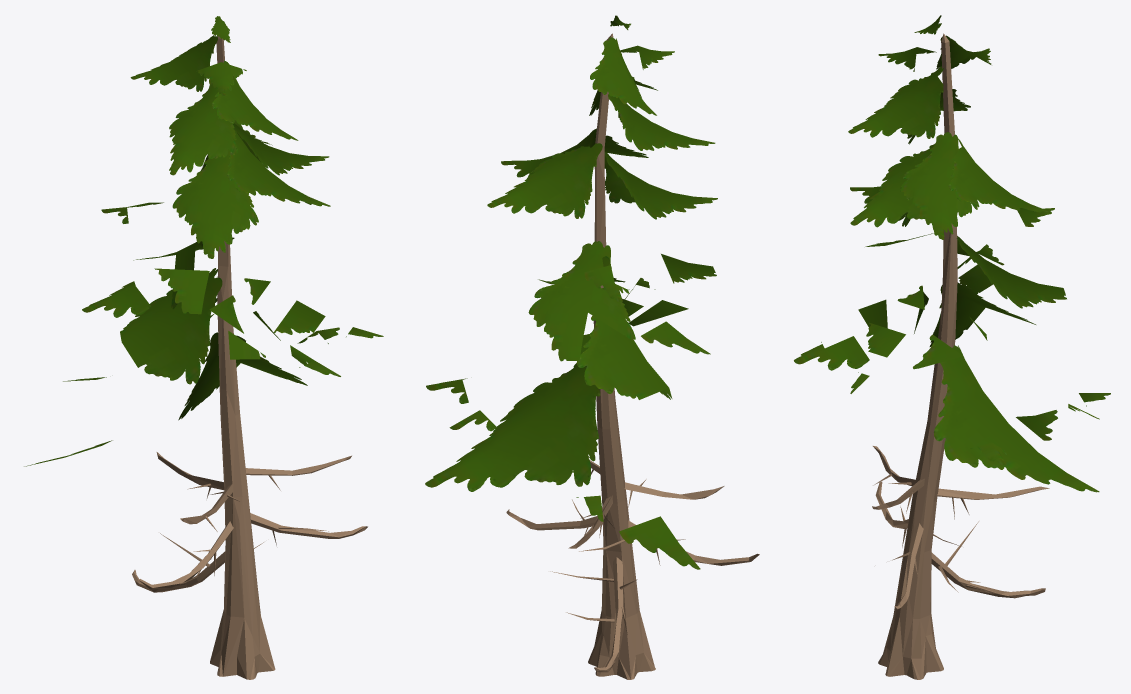
File: fir-natural.far.quaternius.glb
The picture shows the model from 3 angles, left to right: view 1: azimuth 30°, elevation 25°; view 2: azimuth 150°, elevation 25°; view 3: azimuth 270°, elevation 25°; orthographic projection. The views are drawn at different scales.
Parts seen in each view (by area): view 1: Pine_4; view 2: Pine_4; view 3: Pine_4.
Boxes of the visible parts, x1=… form: Pine_4: x1=24, y1=16, x2=383, y2=679; Pine_4: x1=425, y1=15, x2=759, y2=679; Pine_4: x1=794, y1=15, x2=1110, y2=679.
Size of the model in its own units: 6.89 by 13.98 by 6.44.
Materials: 2 (1 with a texture image).
